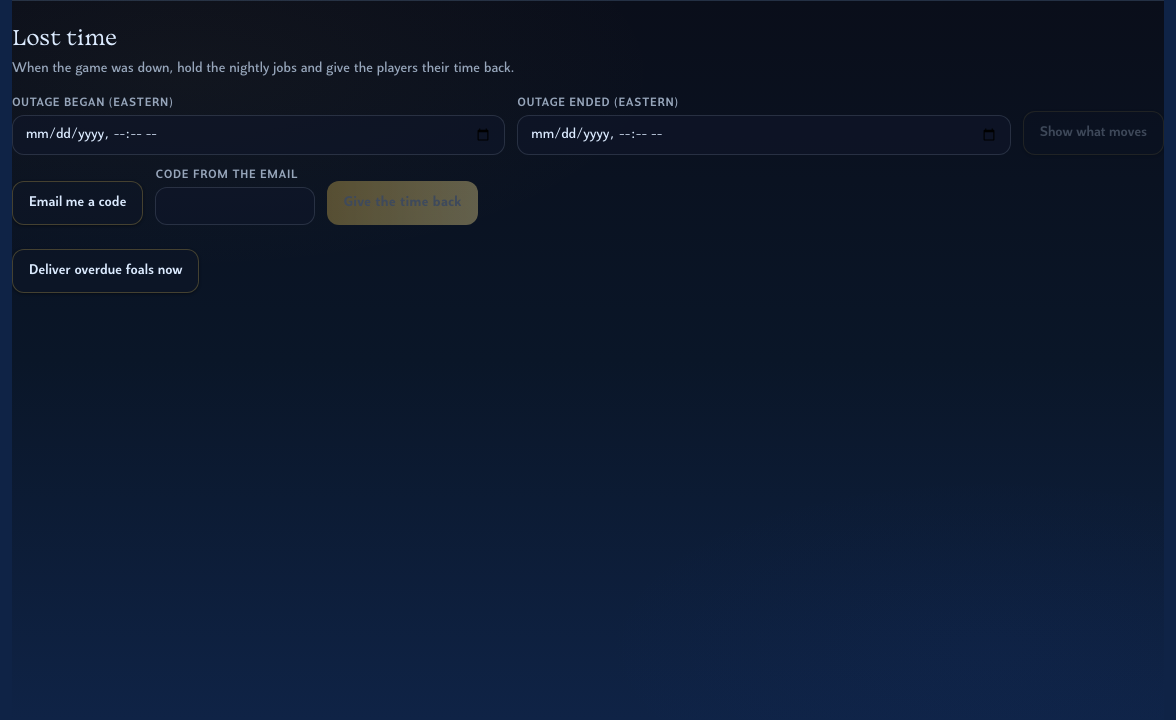
Test case: StaffOutage › shows what would move in words, never field or job names
Expected: the button "Show what moves" is disabled, left=1023, top=111, right=1164, bottom=155
In the field labelled "Outage began (Eastern)": [259, 135] box left=12, top=115, right=505, bottom=155, type "2026-11-15T09:00"
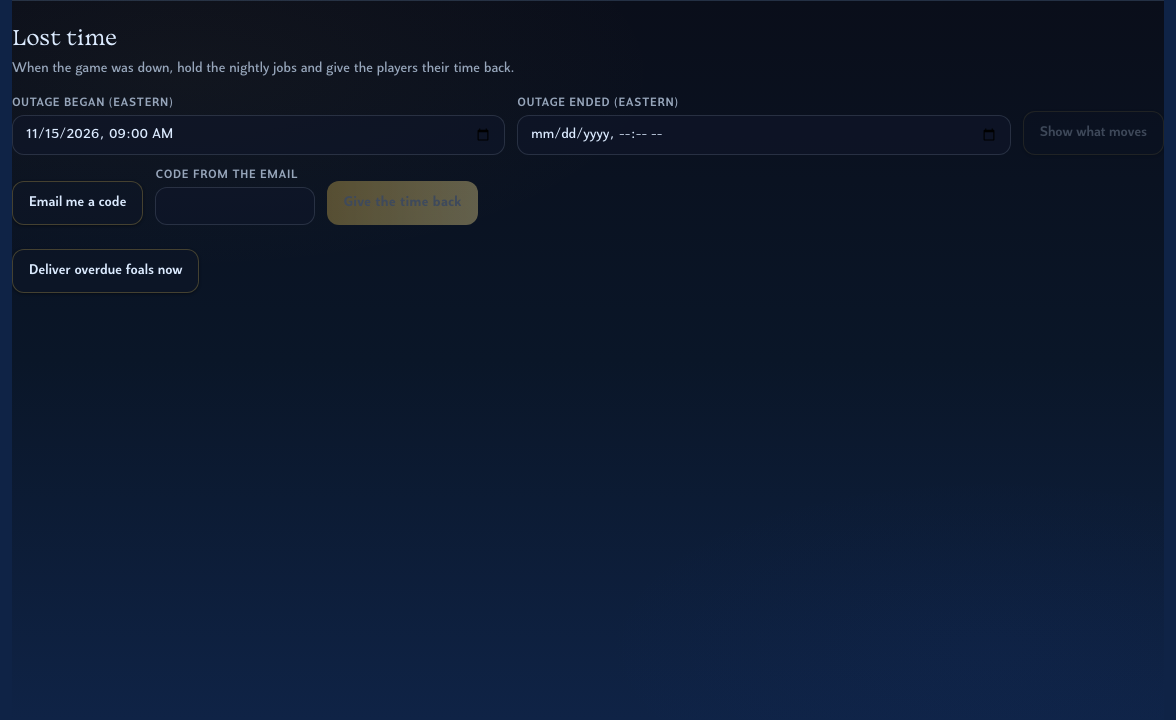
In the field labelled "Outage ended (Eastern)": [764, 135] box left=517, top=115, right=1011, bottom=155, type "2026-11-17T09:00"
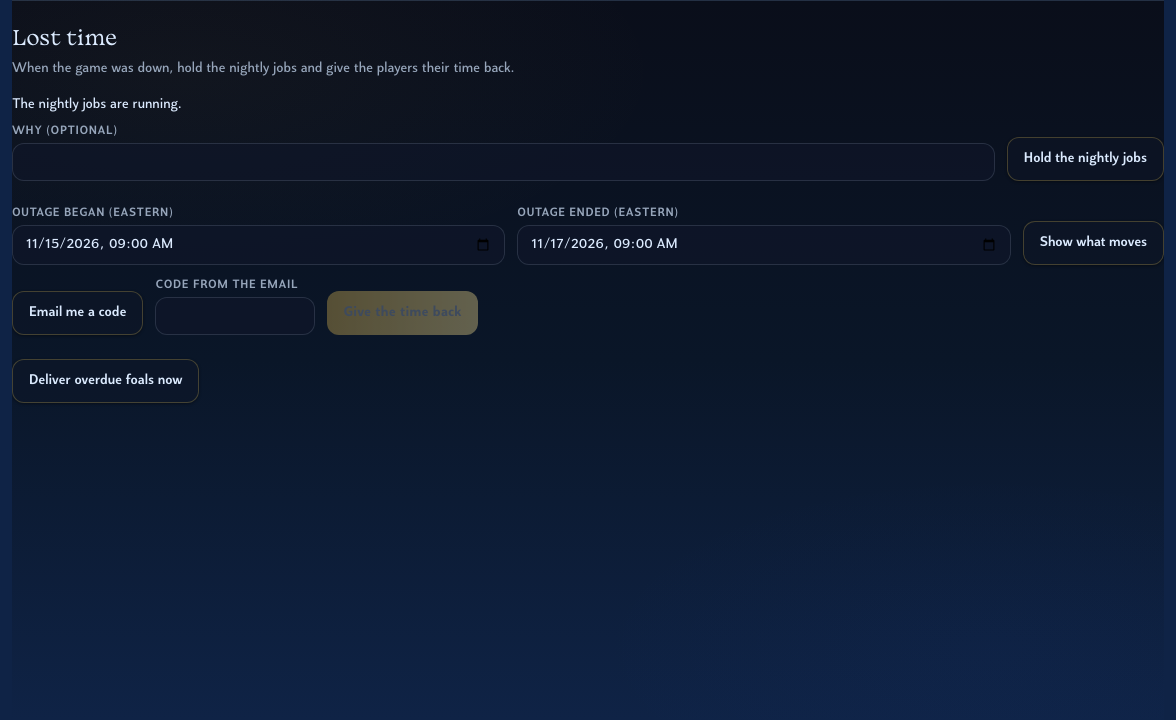
Click the button "Show what moves": [1093, 243] box left=1023, top=221, right=1164, bottom=265
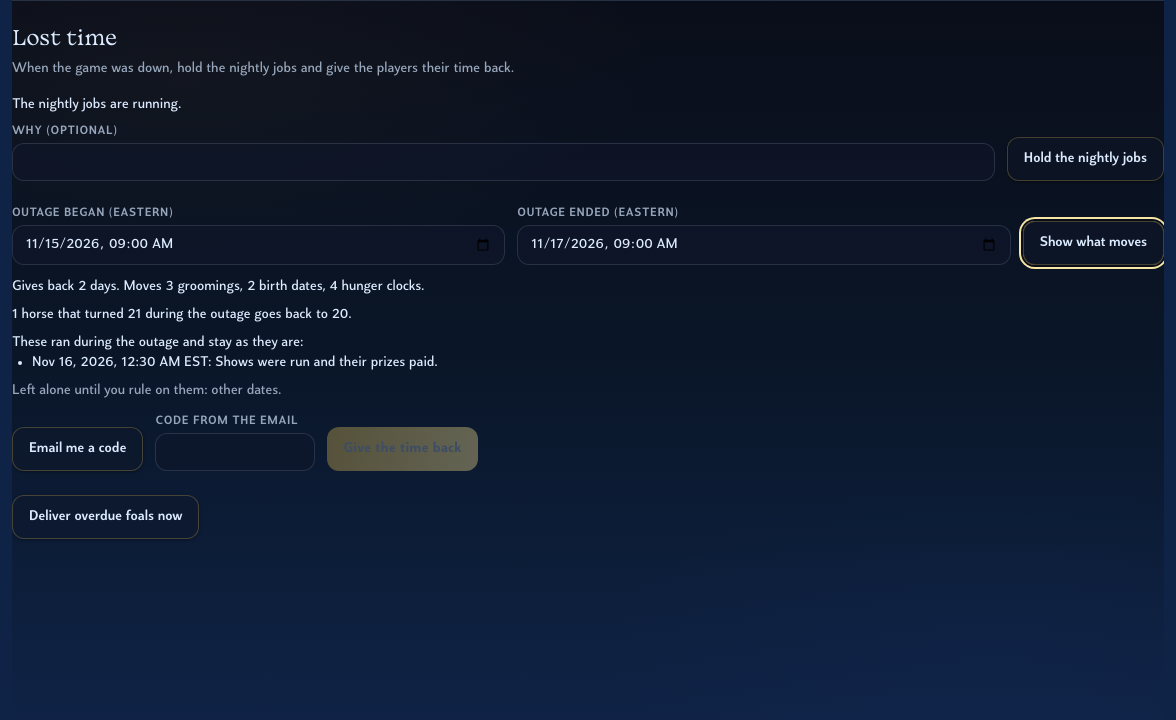
Now the text "Gives back 2 days. Moves 3 groomings, 2 birth dates, 4 hunger clocks." is shown, box left=12, top=279, right=425, bottom=294
Now the text "1 horse that turned 21 during the outage goes back to 20." is shown, box left=12, top=307, right=352, bottom=322
Now the list item "Shows were run and their prizes paid." is shown, box left=215, top=355, right=438, bottom=370
